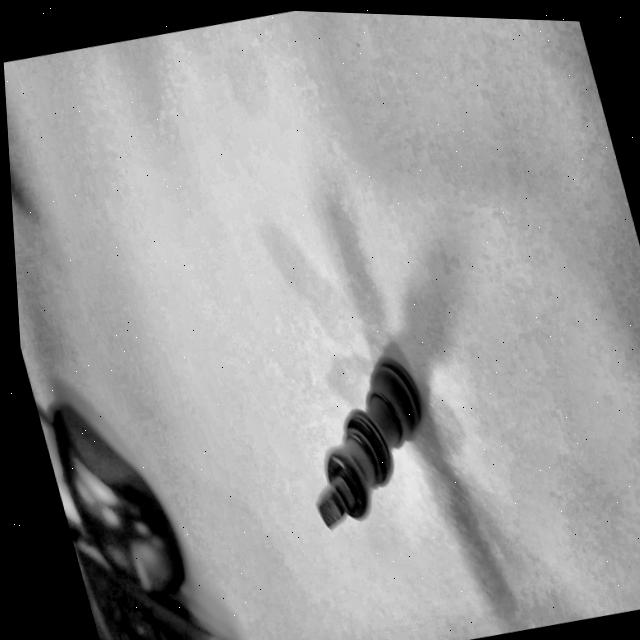black-king: (267, 331, 466, 557)
